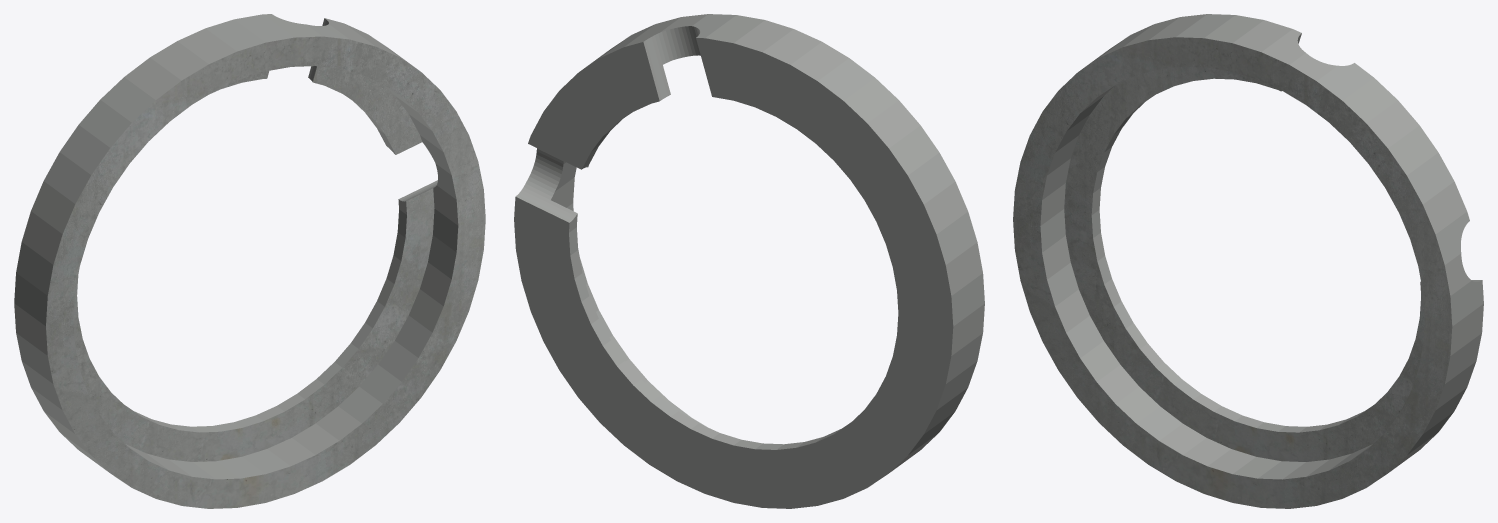
The model's file is pool_024.obj.
The picture shows the model from 3 angles, left to right: view 1: azimuth 30°, elevation 25°; view 2: azimuth 150°, elevation 25°; view 3: azimuth 330°, elevation 25°; orthographic projection.
Size of the model in its own units: 16 by 16 by 2.
